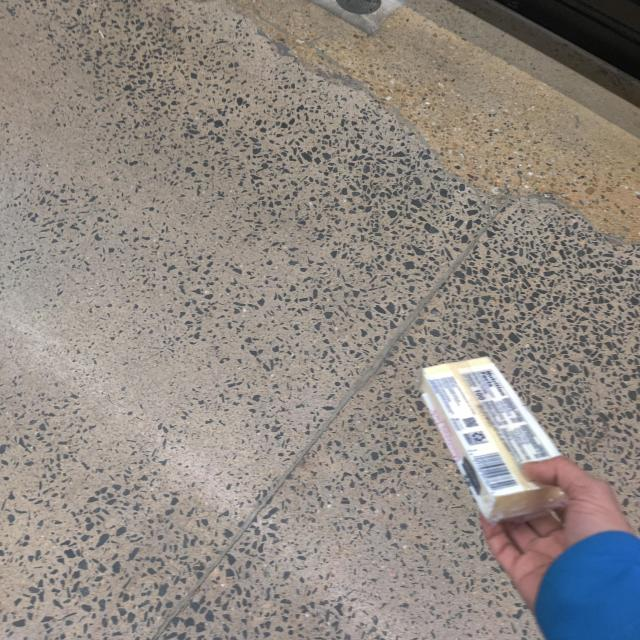Cheese: (419, 356, 570, 510)
